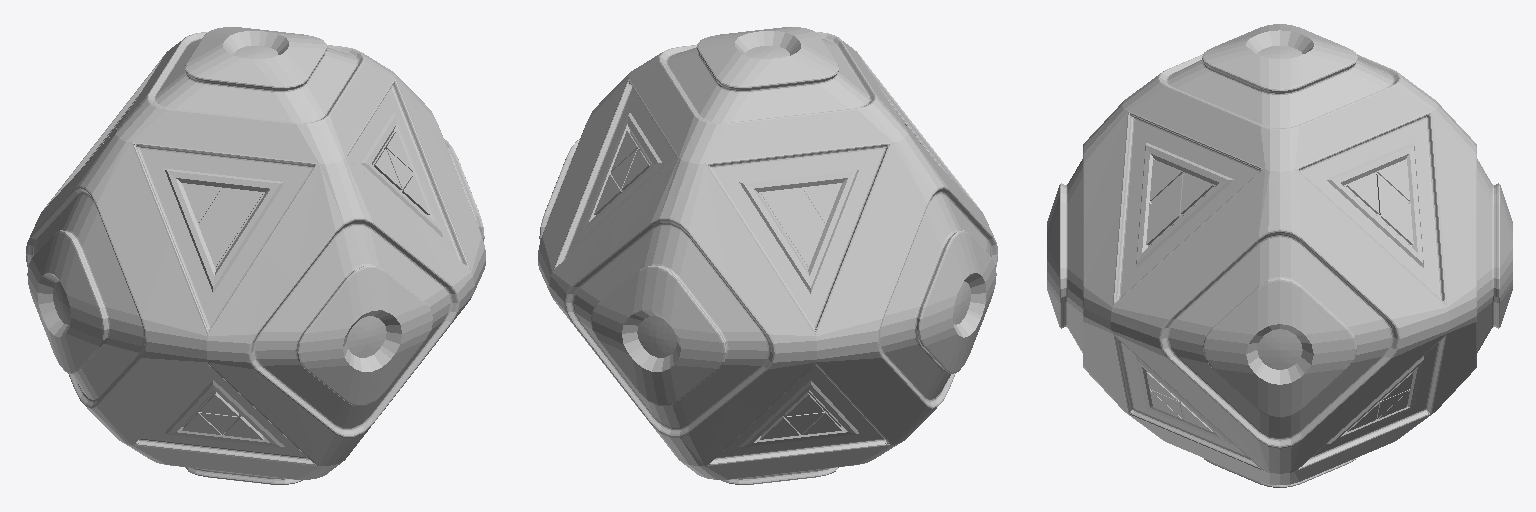
Rendered from power_block.obj.
3 views of the same model, side by side, from view 1: azimuth 30°, elevation 25°; view 2: azimuth 150°, elevation 25°; view 3: azimuth 270°, elevation 25° (orthographic).
Parts seen in each view (by area): view 1: Circle.001; view 2: Circle.001; view 3: Circle.001.
Boxes of the visible parts, x1,y1,x2,y2 form: Circle.001: [26, 27, 485, 484]; Circle.001: [538, 27, 997, 484]; Circle.001: [1047, 24, 1512, 487].
Size of the model in its own units: 1.05 by 1.05 by 1.05.